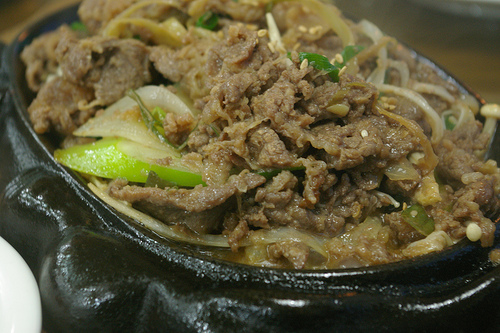bulgogi: (29, 1, 495, 256)
